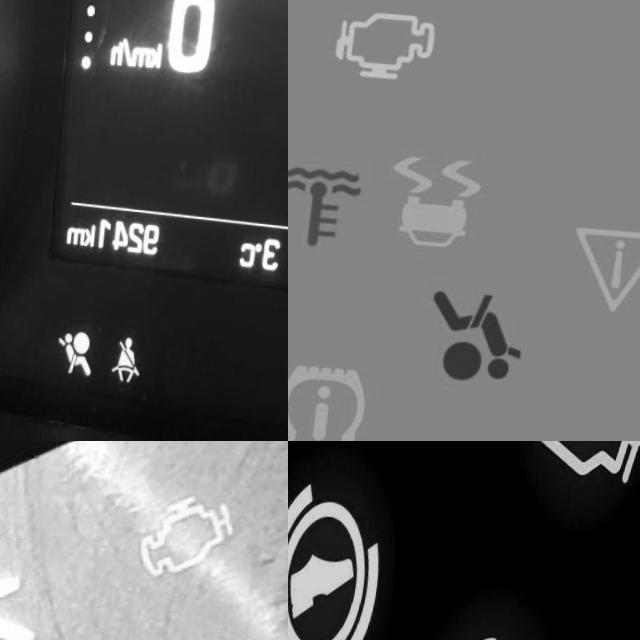High Engine Coolant Temperature: (288, 143, 385, 266)
